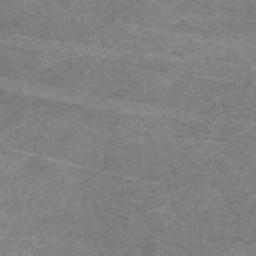Finishing roll printing: (0, 77, 193, 121), (0, 33, 185, 64), (4, 145, 138, 182)
